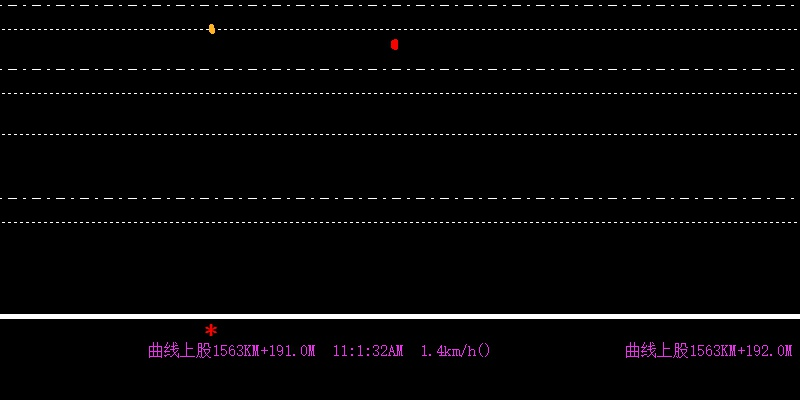face_1: (205, 19, 217, 39)
face_down: (389, 25, 400, 53)
star: (202, 322, 219, 337)
